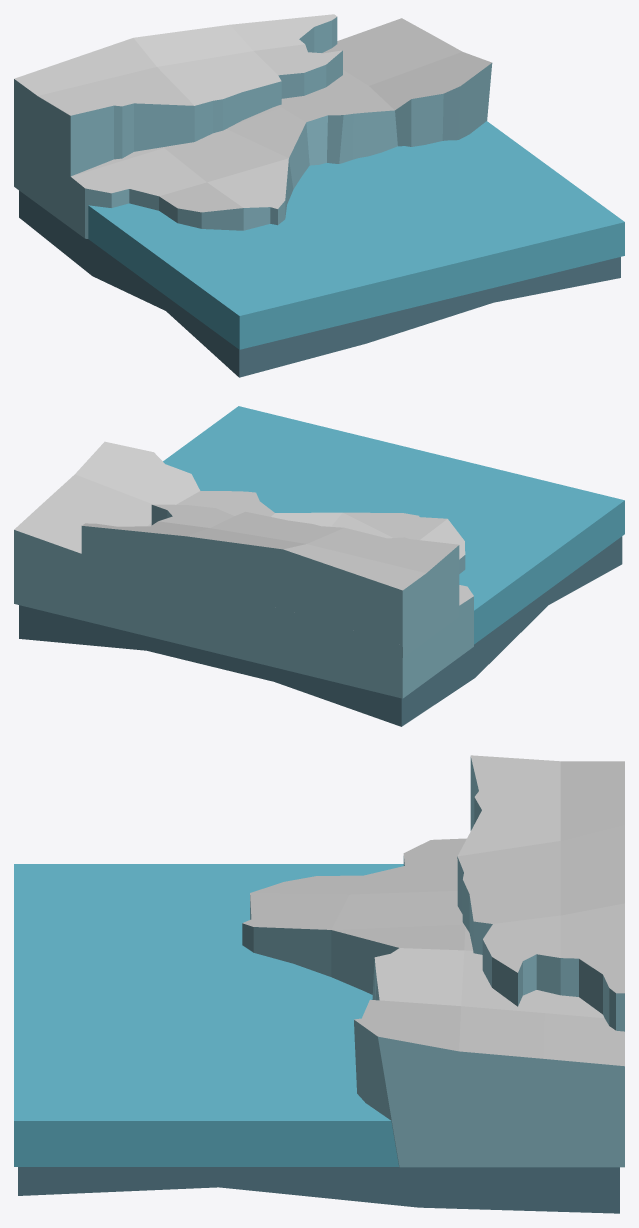
File: world-ice.fbx
3 renders of one model, top to bottom at view 1: azimuth 30°, elevation 25°; view 2: azimuth 150°, elevation 25°; view 3: azimuth 270°, elevation 25°, orthographic. The views are drawn at different scales.
Visible parts, largest first — view 1: world-ice; view 2: world-ice; view 3: world-ice.
Part boxes in pixels (<box>): world-ice: <box>14,14,624,377</box>; world-ice: <box>14,406,624,726</box>; world-ice: <box>14,755,624,1213</box>.
Bounding box in the file's own units: 20 × 7.65 × 19.97.
